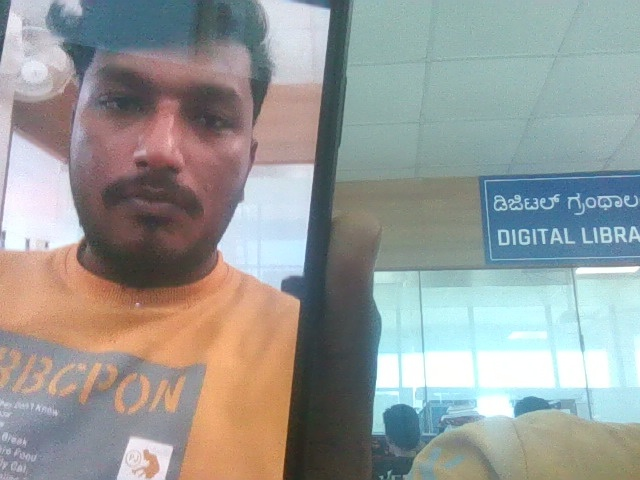fake: (43, 0, 287, 346)
